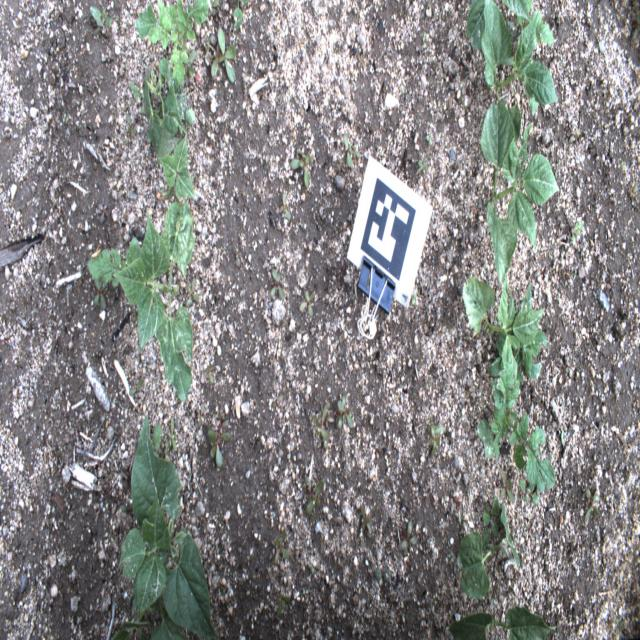crop: (112, 412, 220, 640), (87, 200, 195, 402), (480, 98, 560, 287), (476, 335, 555, 492), (479, 0, 558, 146), (462, 273, 549, 380), (133, 0, 209, 89), (456, 506, 522, 601), (131, 58, 191, 154), (448, 603, 557, 639), (466, 1, 534, 51), (157, 134, 198, 199), (514, 18, 554, 46)
weed: (207, 28, 237, 83), (206, 409, 232, 466), (481, 496, 499, 553), (289, 146, 312, 189), (312, 399, 331, 448), (300, 480, 325, 516), (426, 421, 446, 459), (336, 394, 354, 430), (90, 6, 112, 34), (401, 519, 417, 555), (232, 0, 250, 32), (150, 421, 162, 469), (269, 265, 284, 302), (186, 277, 200, 315), (274, 528, 289, 562), (518, 479, 540, 502), (584, 484, 597, 522), (181, 48, 195, 81), (275, 590, 291, 618), (500, 471, 514, 503), (96, 196, 111, 225), (299, 290, 315, 317), (93, 274, 106, 307), (567, 219, 584, 242), (494, 334, 509, 359), (166, 416, 176, 451), (196, 400, 208, 429), (376, 564, 393, 582), (344, 132, 352, 170), (361, 506, 371, 536), (280, 191, 290, 220), (129, 377, 144, 396), (204, 362, 215, 386), (202, 2, 220, 15), (632, 9, 640, 38), (566, 129, 580, 145), (126, 116, 136, 138), (120, 498, 136, 511), (348, 145, 361, 160), (616, 616, 624, 640), (418, 159, 428, 173), (410, 292, 418, 308), (307, 560, 315, 574), (421, 30, 427, 43), (621, 159, 626, 172)
